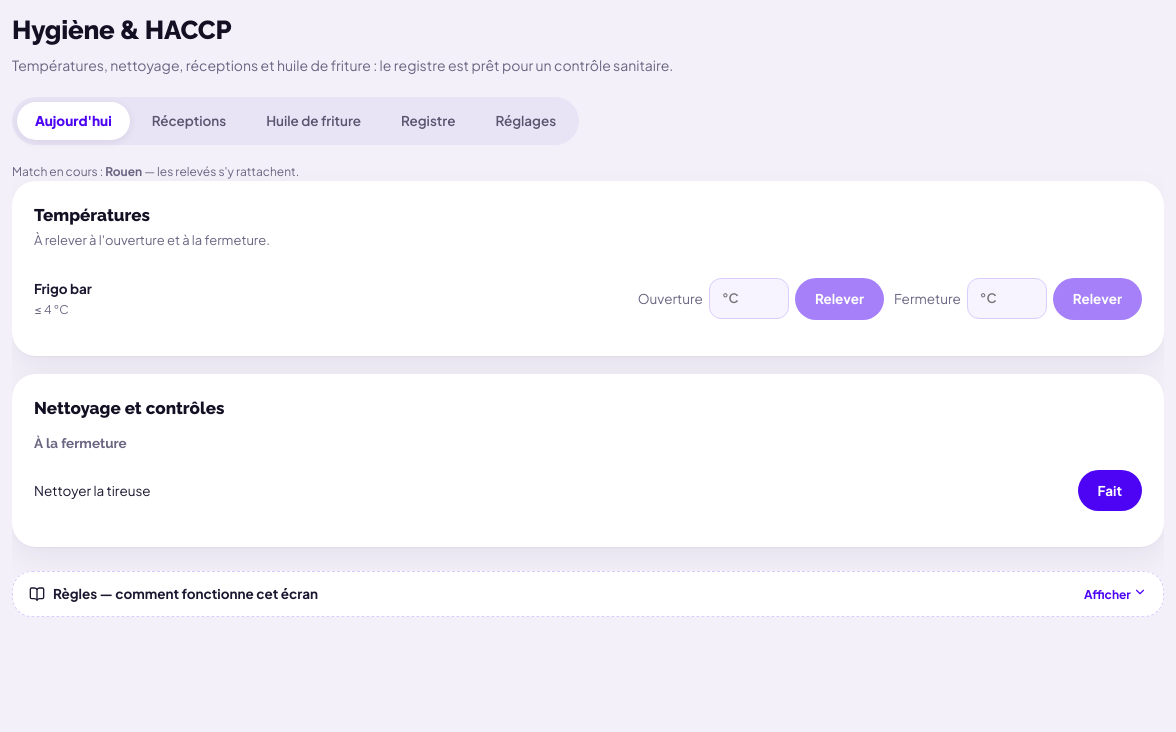
Scenario: hygiène à l'écran › contrôle à réception conforme ; registre avec la non-conformité
Click the button "Réceptions".
click(189, 121)  # box [134, 102, 244, 140]
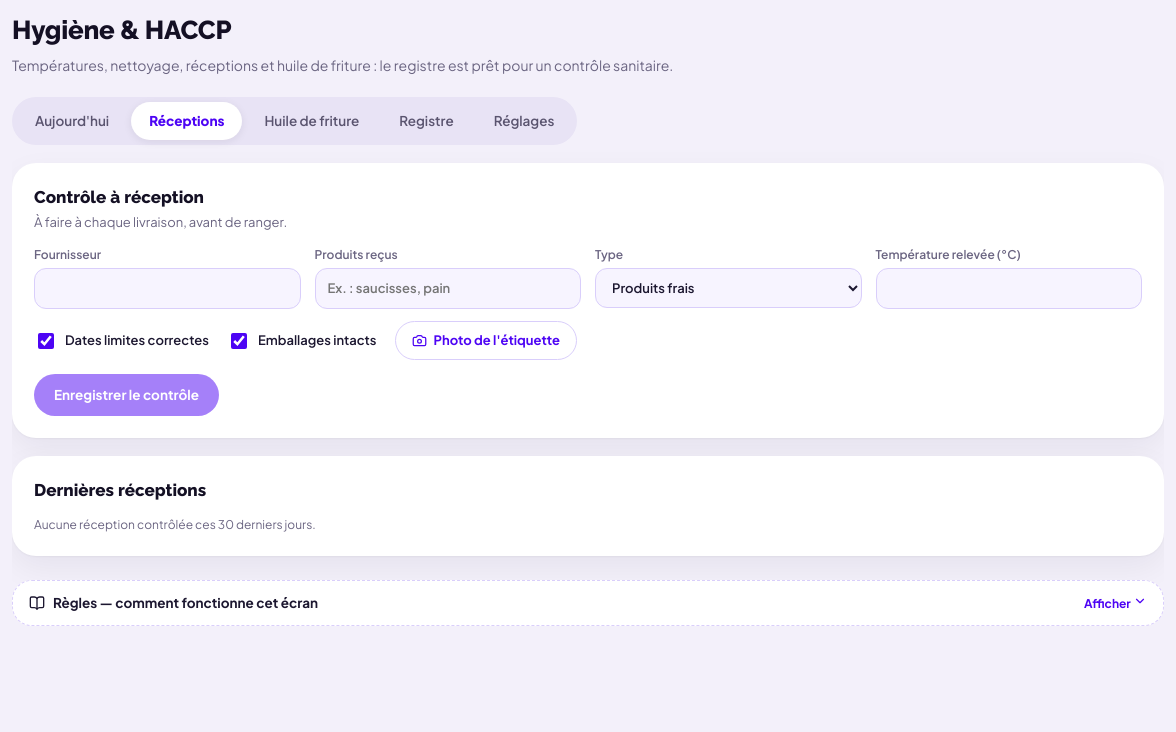
Type "Metro" into the field labelled "Fournisseur".
click(167, 289); type("Metro")  # box [34, 268, 300, 309]
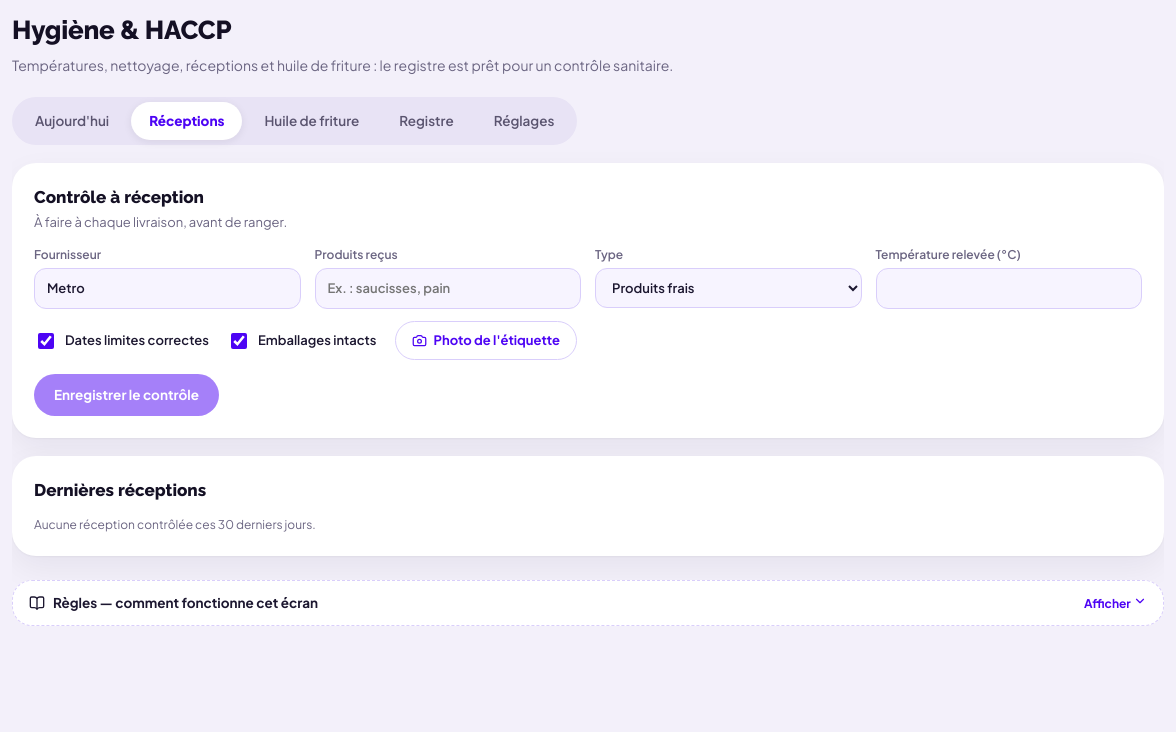
Type "Saucisses" into the field labelled "Produits reçus".
click(448, 289); type("Saucisses")  # box [314, 268, 581, 309]
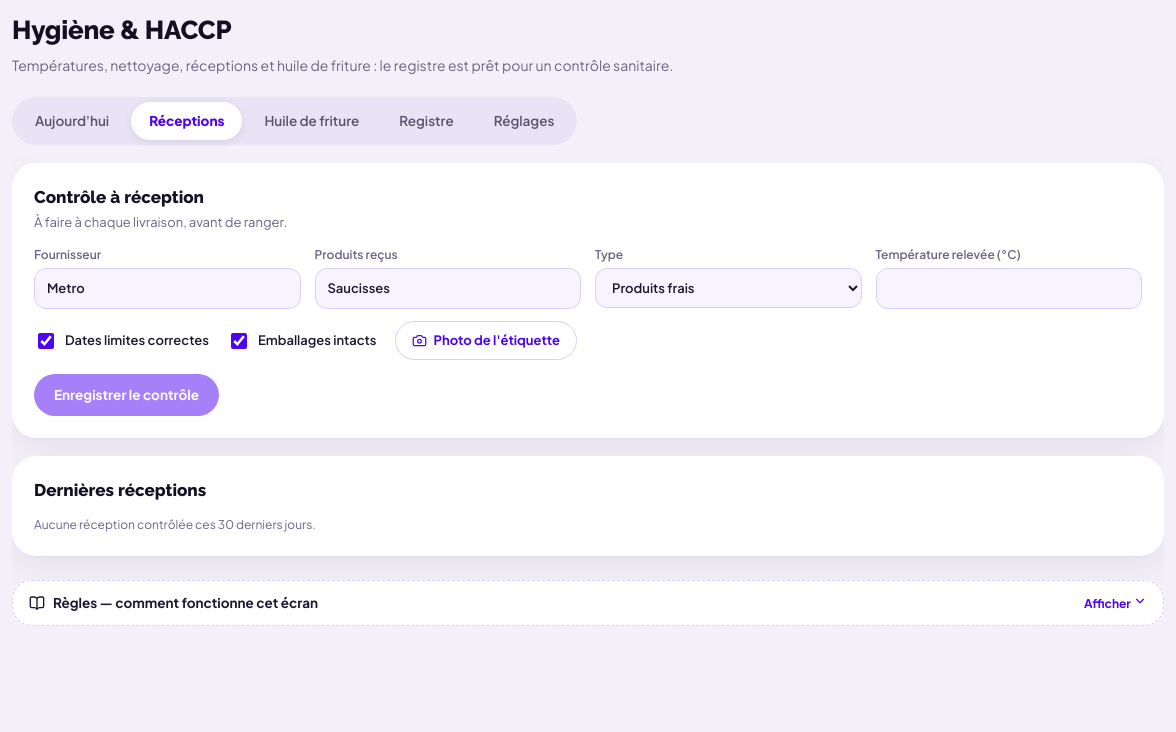
Type "3" into the field labelled "Température relevée (°C)".
click(1009, 289); type("3")  # box [876, 268, 1142, 309]
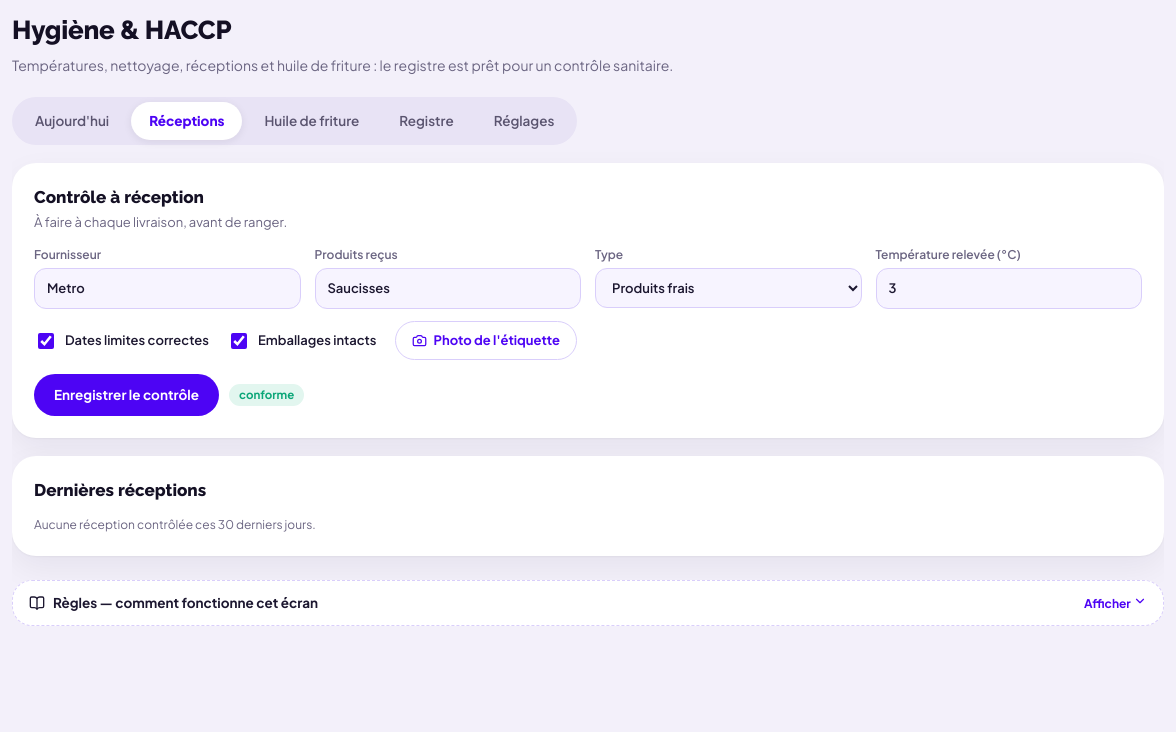
Check: the text "conforme" is shown, box [229, 384, 304, 406]
Click the button "Enregistrer le contrôle".
click(126, 395)  # box [34, 374, 219, 416]
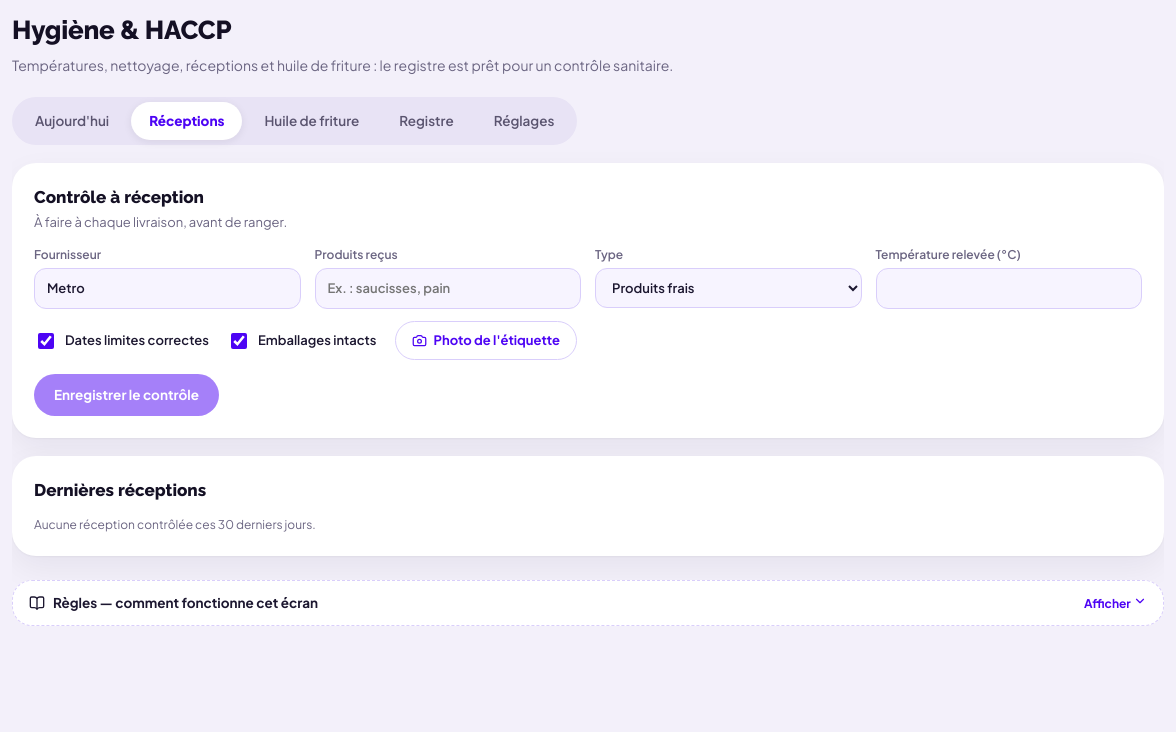
Click the button "Registre".
click(426, 121)  # box [381, 102, 472, 140]
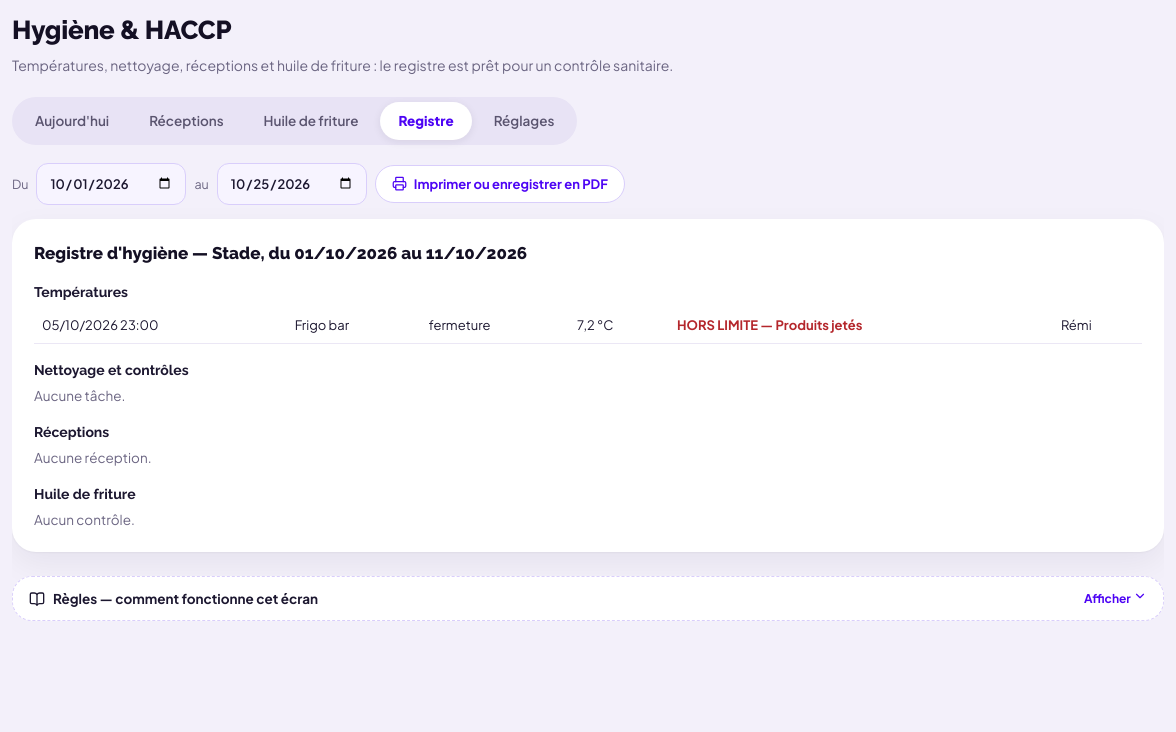
Check: the text "HORS LIMITE — Produits jetés" is shown, box [669, 308, 1053, 344]
